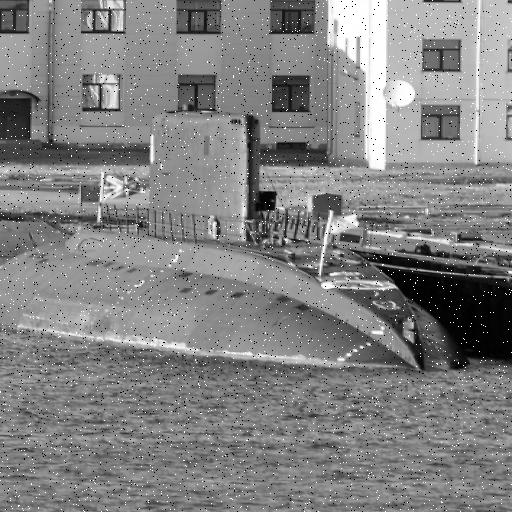submarine: (1, 117, 471, 375)
